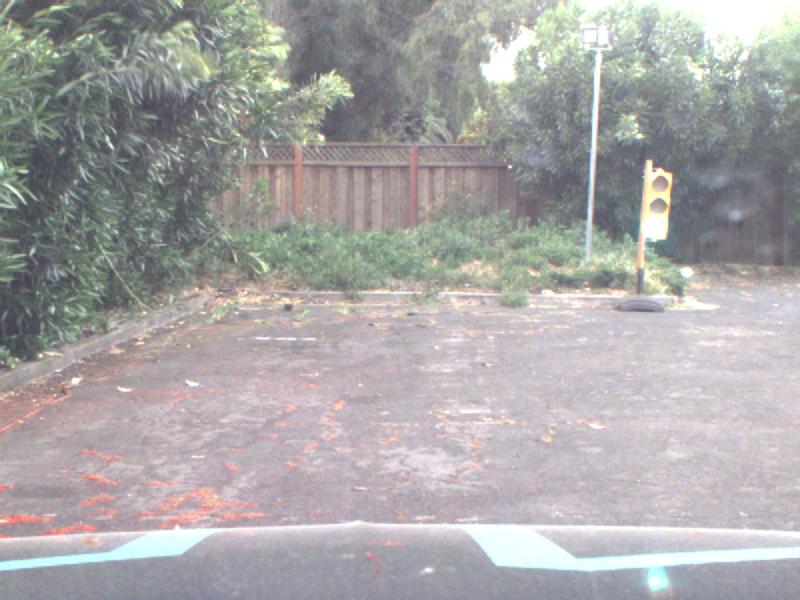Green: (645, 167, 667, 240)
